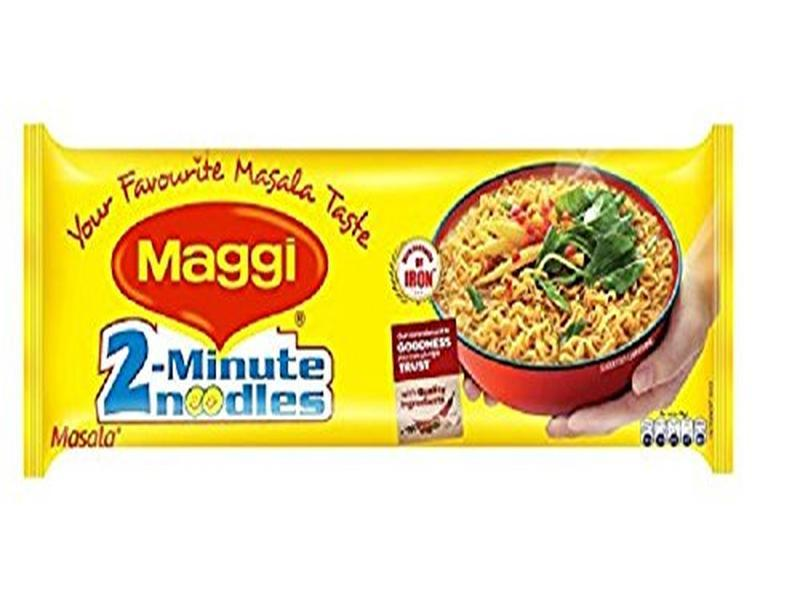maggi-family: (18, 123, 737, 473)
